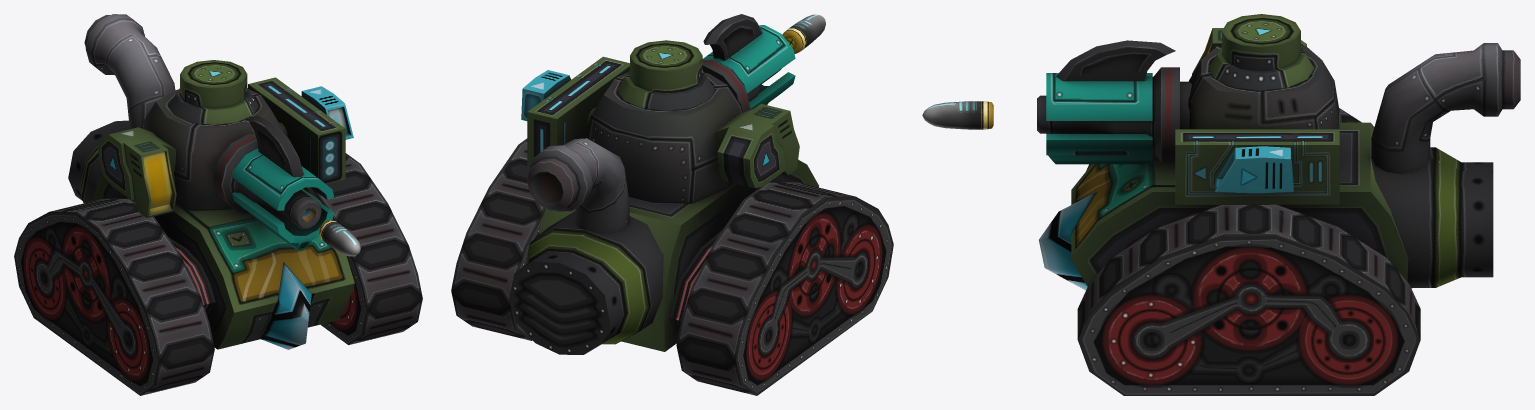
File: tank1.FBX
The picture shows the model from 3 angles, left to right: view 1: azimuth 30°, elevation 25°; view 2: azimuth 150°, elevation 25°; view 3: azimuth 270°, elevation 25°; orthographic projection. The views are drawn at different scales.
Parts seen in each view (by area): view 1: SciFi Ultra Tank 1, SciFi Ultra Tank 1_turret (×3), SciFi Ultra Tank 1_bullet; view 2: SciFi Ultra Tank 1, SciFi Ultra Tank 1_turret (×3), SciFi Ultra Tank 1_bullet; view 3: SciFi Ultra Tank 1, SciFi Ultra Tank 1_turret (×3), SciFi Ultra Tank 1_bullet.
Boxes of the visible parts, left/top/right/bottom form: SciFi Ultra Tank 1: left=14, top=14, right=422, bottom=395; SciFi Ultra Tank 1_turret (×3): left=98, top=60, right=353, bottom=250; SciFi Ultra Tank 1_bullet: left=318, top=220, right=360, bottom=256; SciFi Ultra Tank 1: left=451, top=138, right=893, bottom=395; SciFi Ultra Tank 1_turret (×3): left=521, top=14, right=799, bottom=202; SciFi Ultra Tank 1_bullet: left=782, top=14, right=825, bottom=53; SciFi Ultra Tank 1: left=1039, top=43, right=1520, bottom=395; SciFi Ultra Tank 1_turret (×3): left=1037, top=14, right=1339, bottom=204; SciFi Ultra Tank 1_bullet: left=922, top=101, right=993, bottom=129.
Size of the model in its own units: 305 by 274 by 512.
